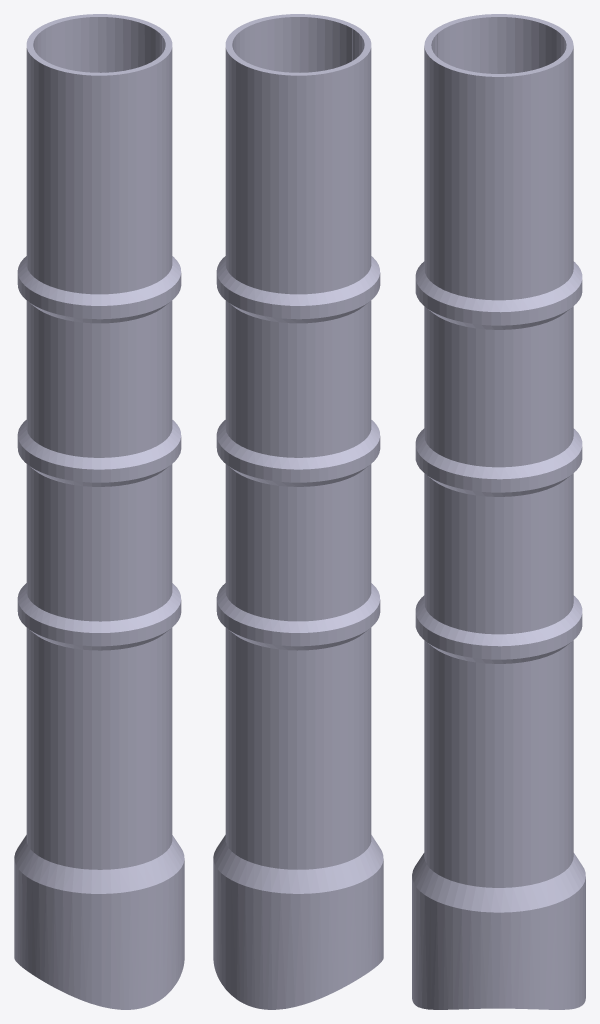
3 views of the same model, side by side, from view 1: azimuth 30°, elevation 25°; view 2: azimuth 150°, elevation 25°; view 3: azimuth 270°, elevation 25° (orthographic). The views are drawn at different scales.
Parts seen in each view (by area): view 1: null; view 2: null; view 3: null.
Boxes of the visible parts, bbox=[...] form: null: bbox=[14, 14, 184, 1009]; null: bbox=[213, 14, 383, 1009]; null: bbox=[412, 14, 585, 1009].
Bounding box in the file's own units: 11.7 × 70.67 × 11.7.
